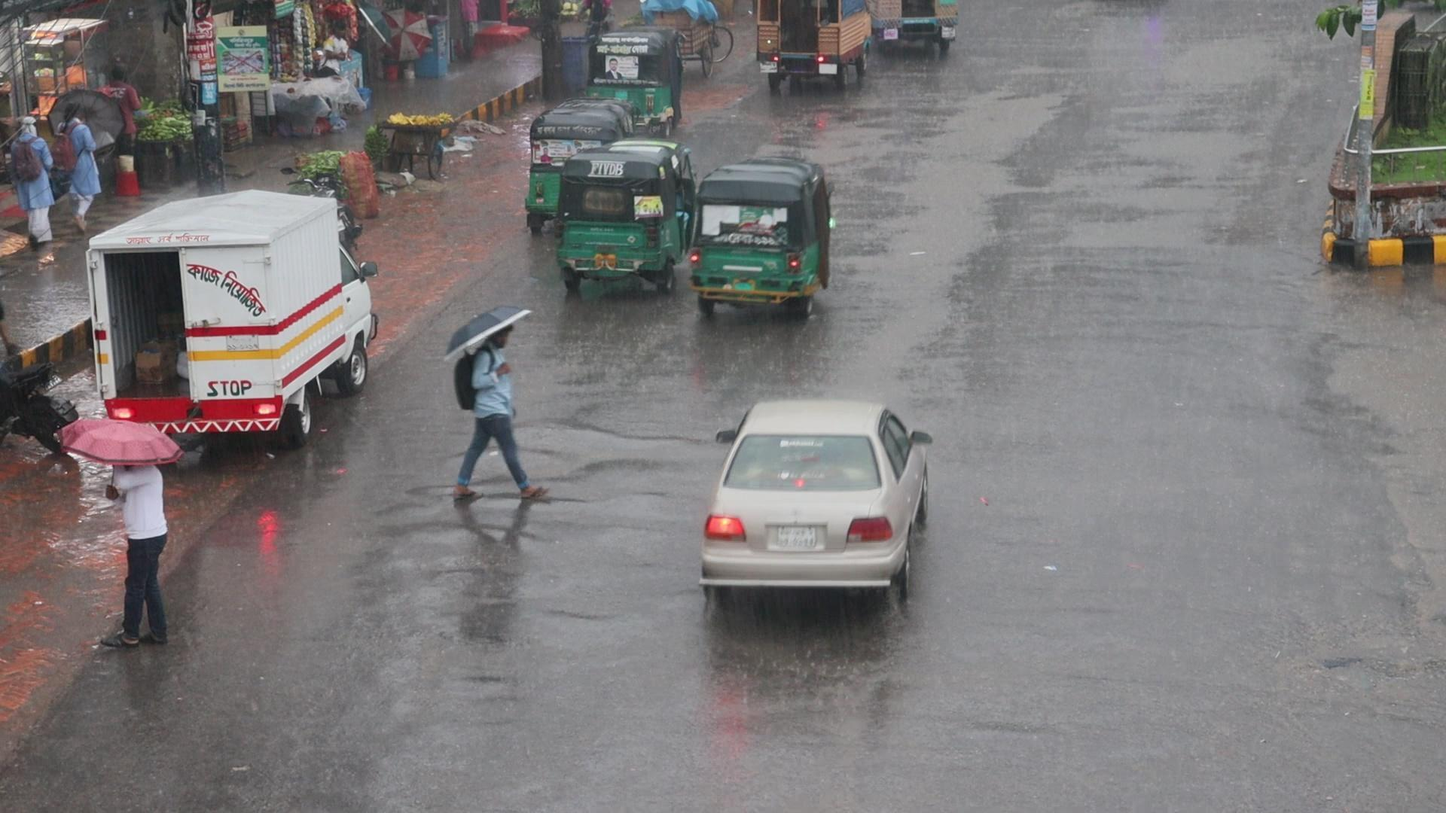Car: (695, 388, 935, 620)
